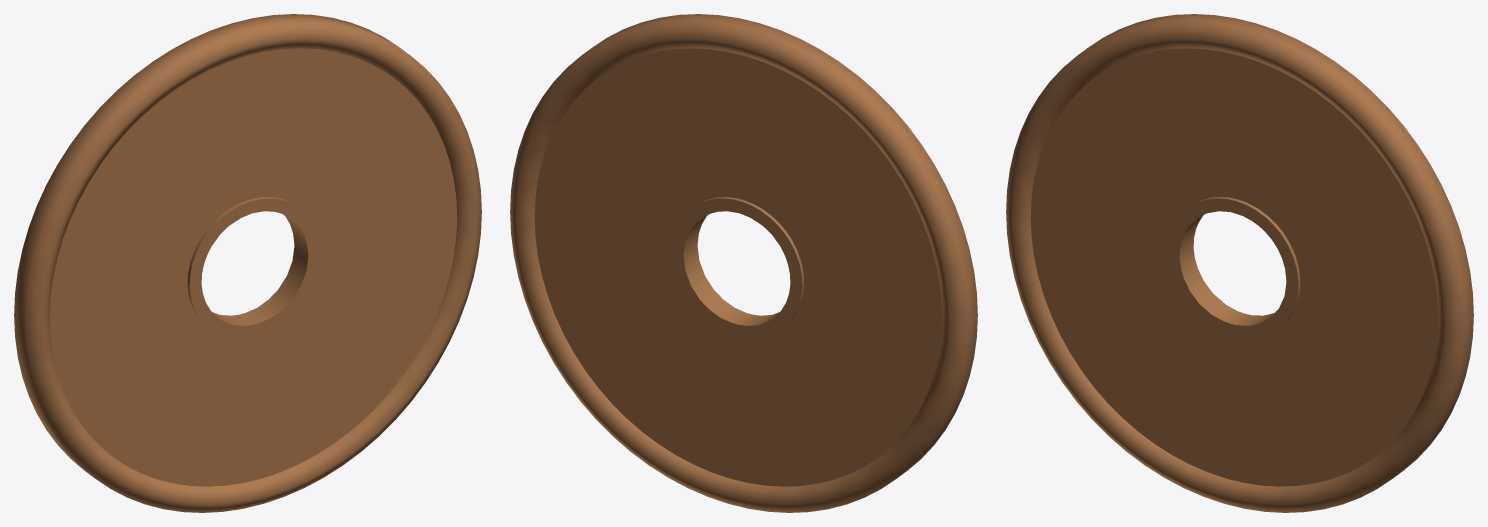
The model's file is mdl_cwt_token.gltf.
3 views of the same model, side by side, from view 1: azimuth 30°, elevation 25°; view 2: azimuth 150°, elevation 25°; view 3: azimuth 330°, elevation 25° (orthographic).
Visible parts, largest first — view 1: Token; view 2: Token; view 3: Token.
Boxes of the visible parts, box(x1,y1,x2,y2) form: Token: box(14, 14, 481, 512); Token: box(510, 14, 977, 512); Token: box(1006, 14, 1473, 512).
Size of the model in its own units: 0.0666 by 0.0666 by 0.00534.
Materials: 2 (2 with a texture image).
